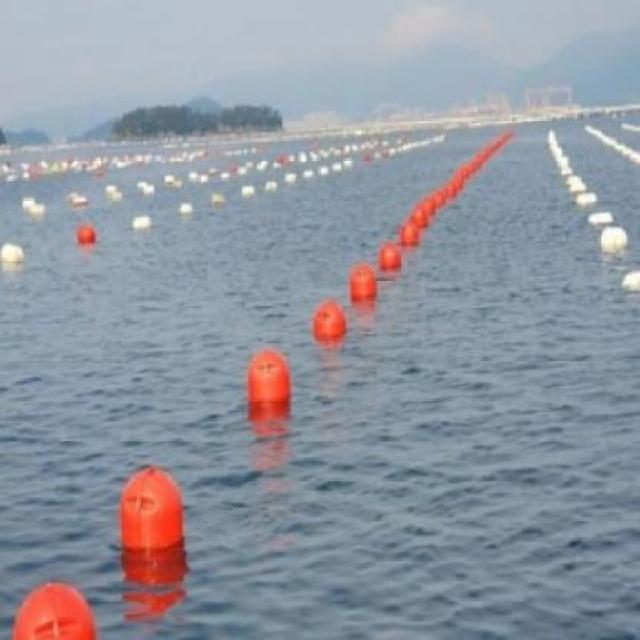a: (107, 448, 203, 559), (9, 577, 103, 640), (231, 342, 302, 409), (308, 290, 360, 353), (346, 257, 384, 313), (70, 220, 107, 254), (373, 239, 406, 275), (594, 226, 634, 255), (395, 219, 427, 252), (1, 242, 30, 278), (66, 185, 95, 217), (126, 211, 163, 236), (23, 194, 51, 220), (106, 179, 126, 213), (177, 197, 202, 222), (136, 175, 157, 204), (618, 266, 639, 295), (238, 179, 256, 212), (210, 187, 230, 213), (164, 170, 186, 193), (283, 169, 302, 191), (264, 175, 276, 198)
